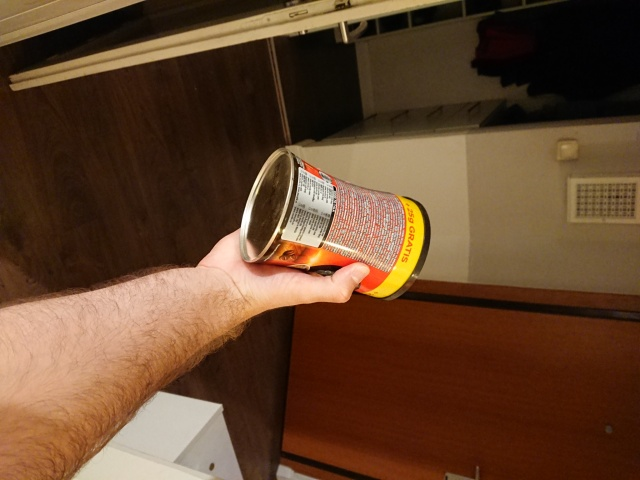Nescafe Classic 225g: (236, 144, 434, 305)
